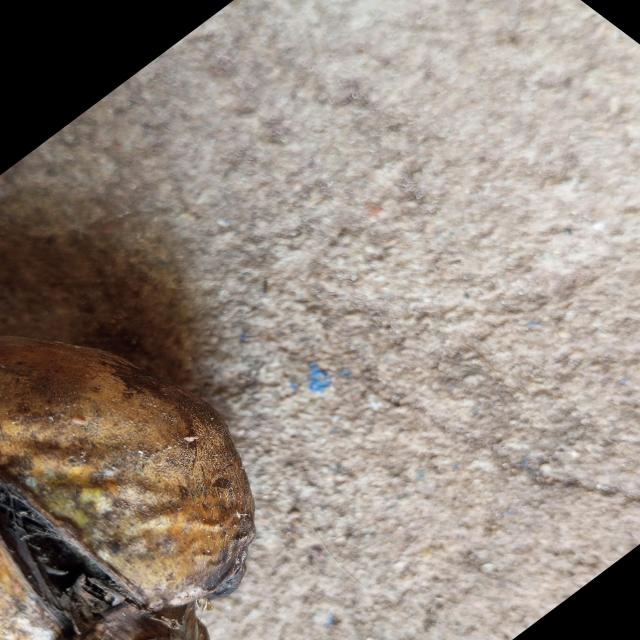damaged: (0, 337, 255, 640)
